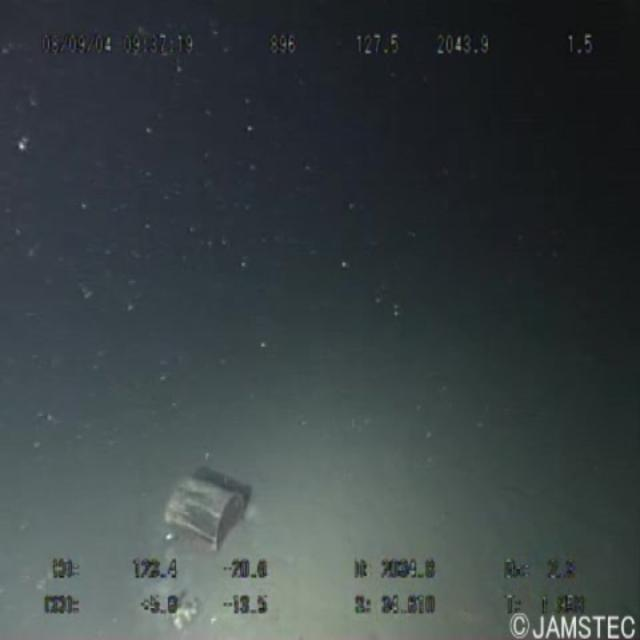Metal: (156, 447, 264, 555)
